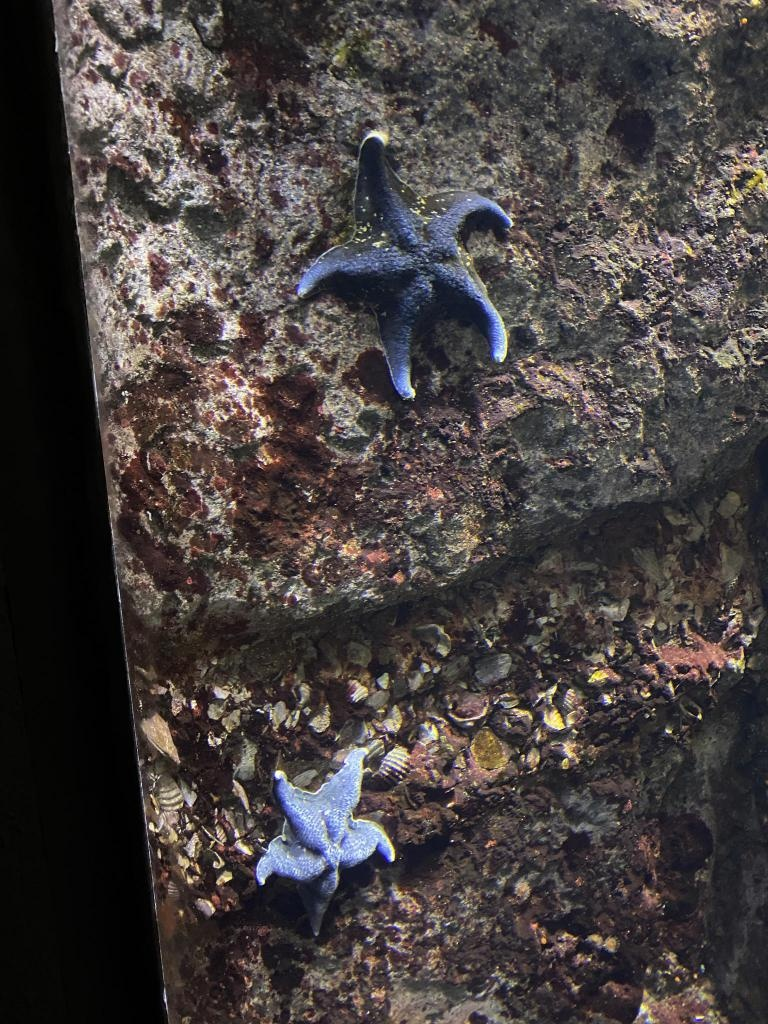starfish: (296, 128, 524, 400), (252, 743, 402, 947)
